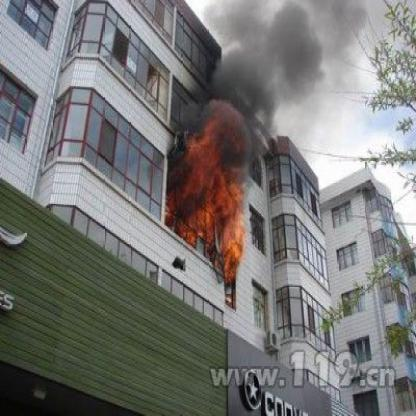fire: (185, 137, 219, 190), (220, 212, 240, 278), (201, 174, 237, 210), (182, 208, 213, 242)
